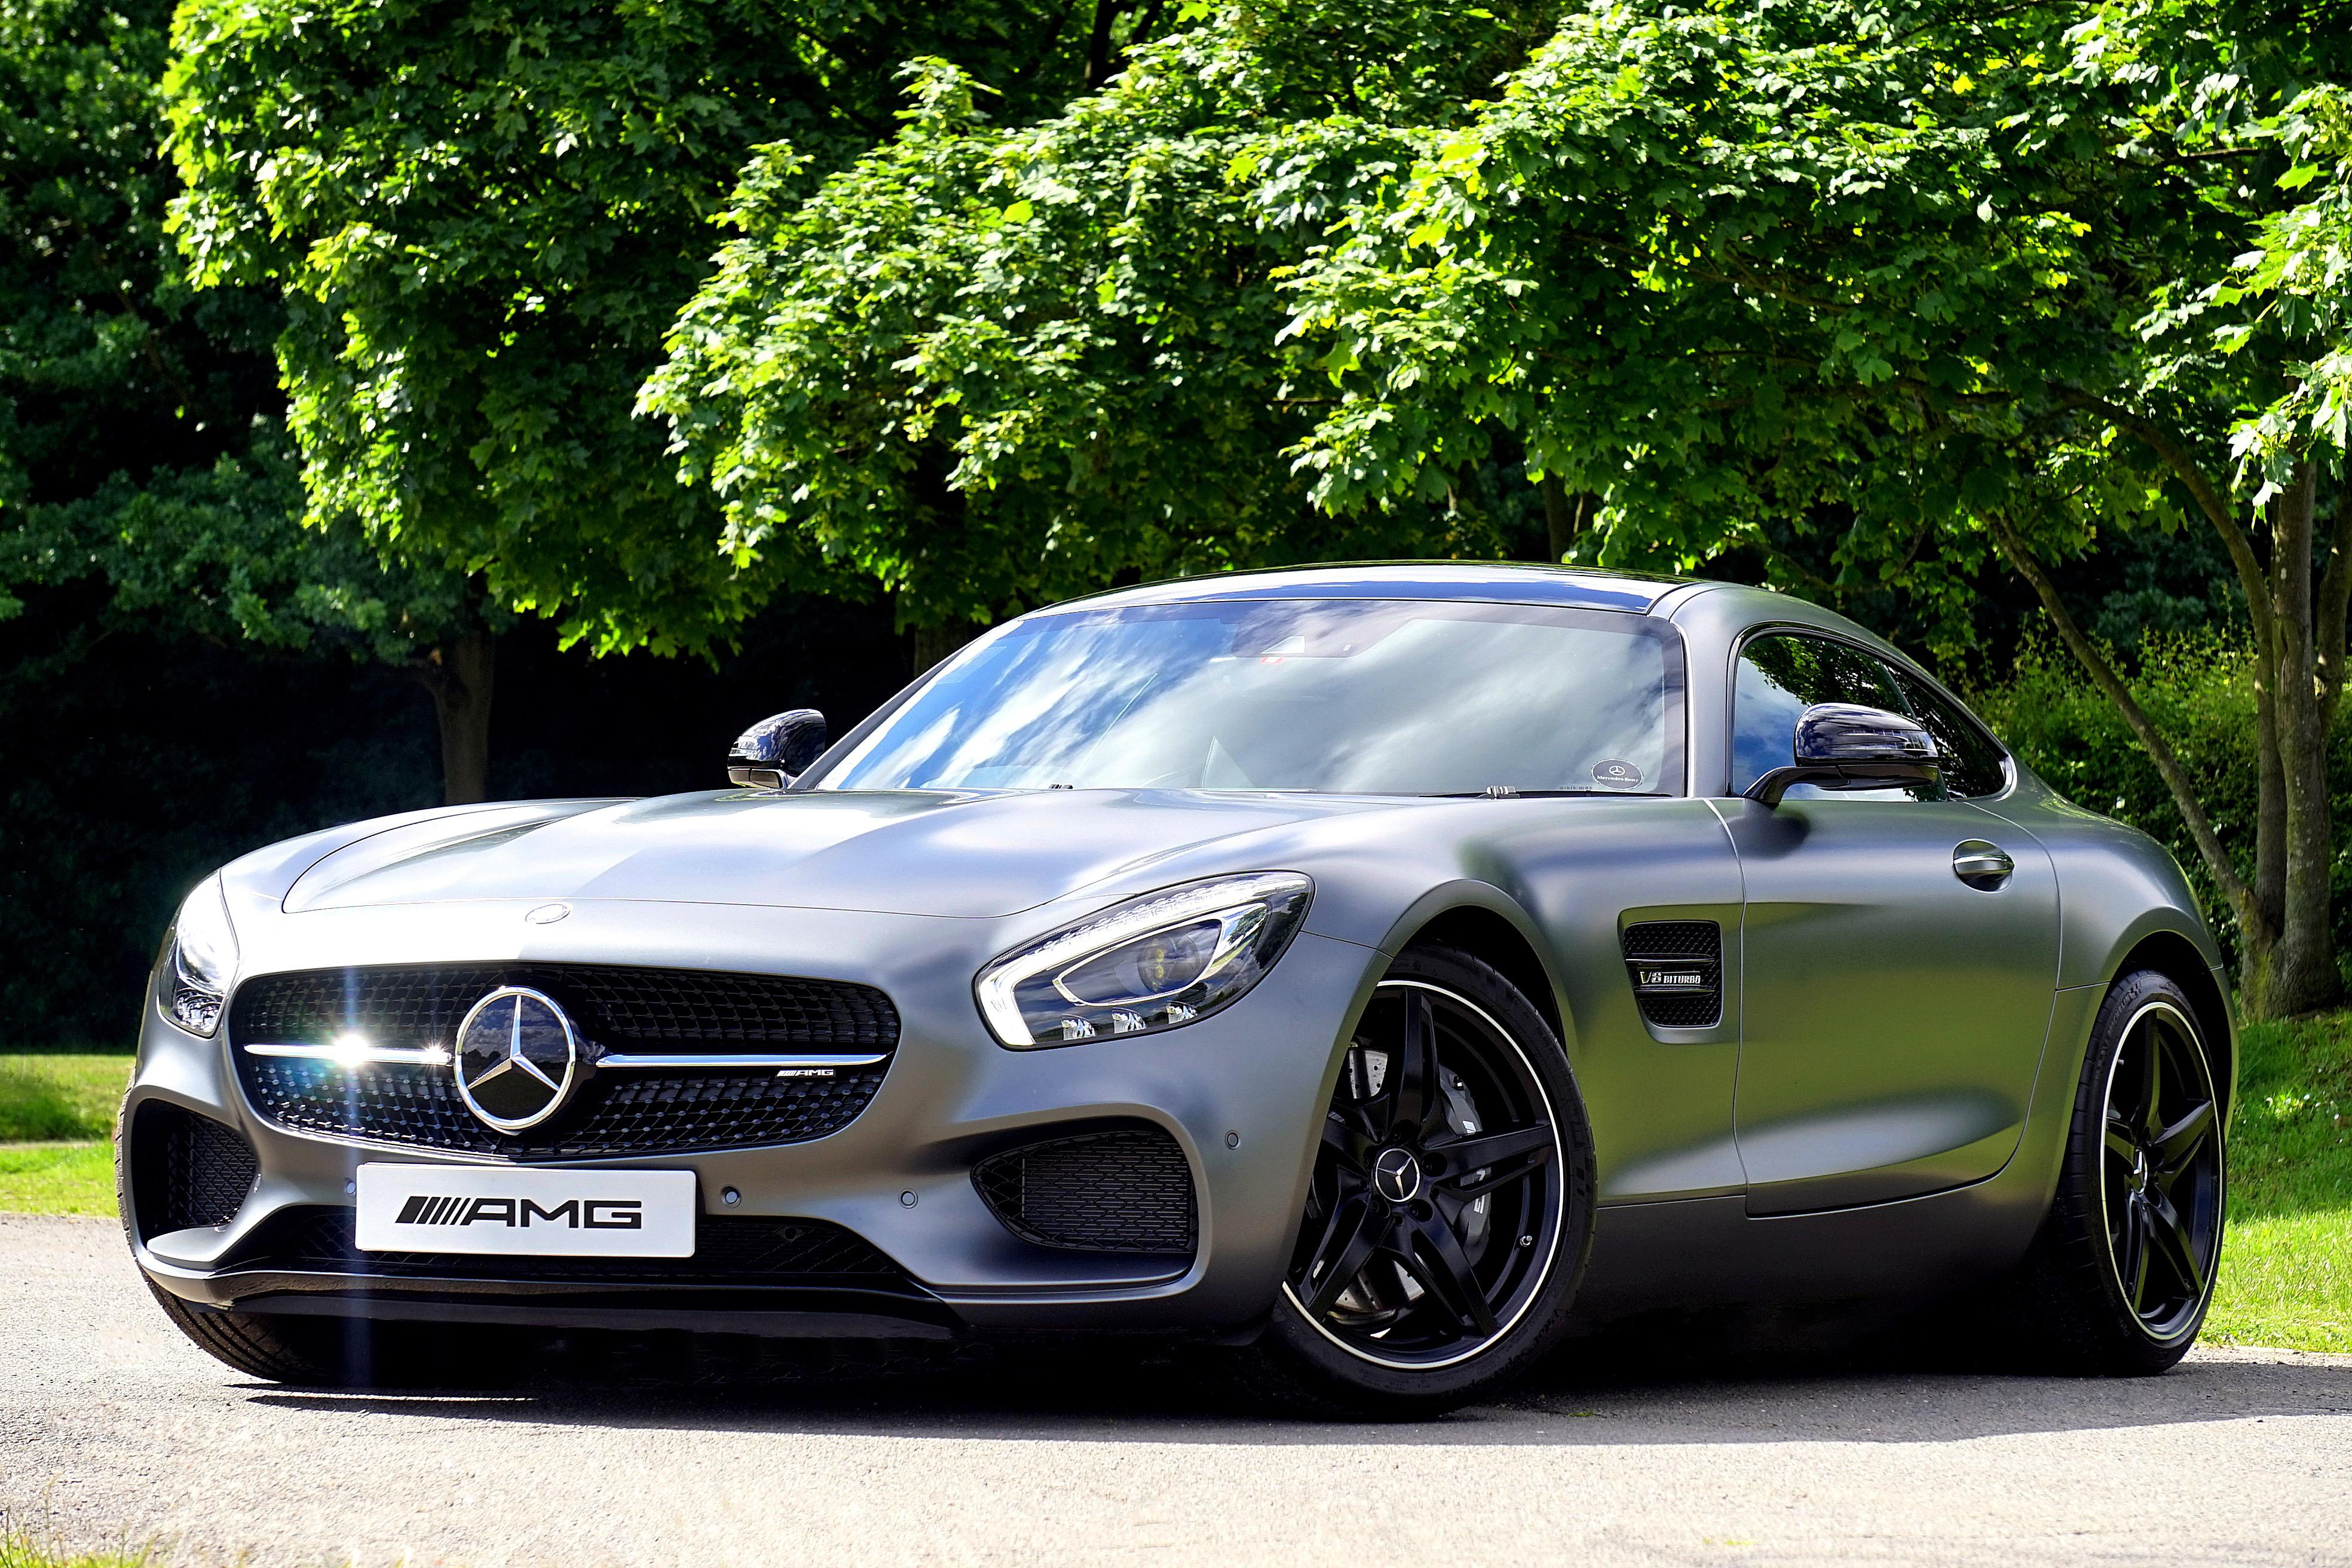car: (149, 488, 2296, 1451)
